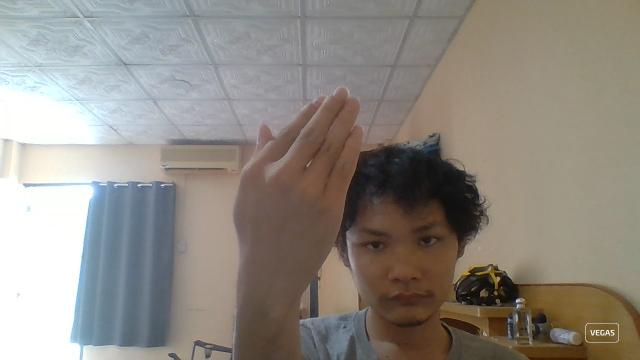backword: (232, 86, 364, 298)
